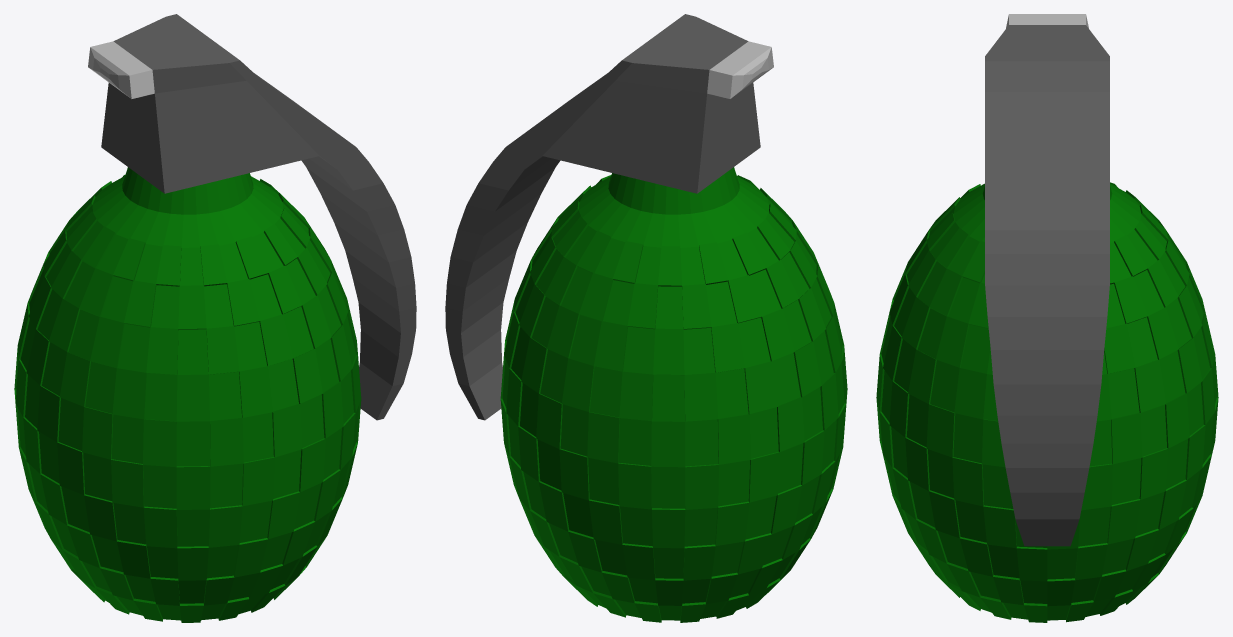
Rendered from Grenade.fbx.
3 renders of one model, left to right at view 1: azimuth 30°, elevation 25°; view 2: azimuth 150°, elevation 25°; view 3: azimuth 270°, elevation 25°, orthographic.
Parts seen in each view (by area): view 1: Sphere; view 2: Sphere; view 3: Sphere.
Boxes of the visible parts, bbox=[...] form: Sphere: bbox=[14, 14, 416, 622]; Sphere: bbox=[445, 14, 847, 622]; Sphere: bbox=[876, 14, 1218, 622].
Size of the model in its own units: 167 by 241 by 141.
